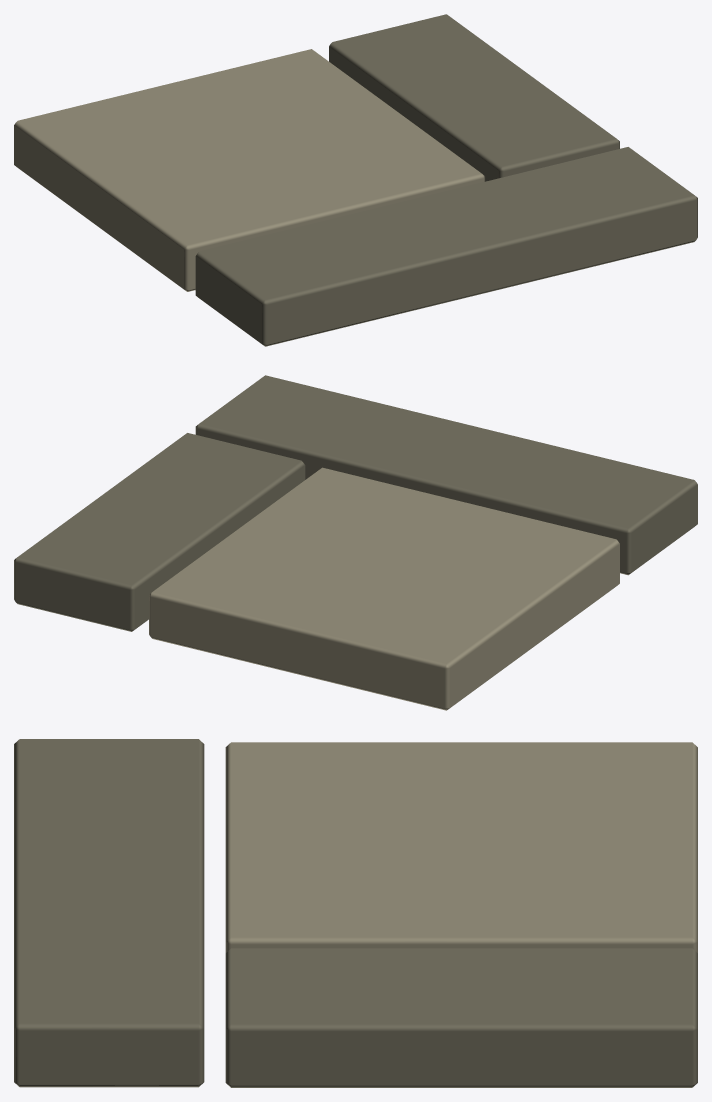
Rendered from stone-halls-flag-c.bbf9a24e.glb.
3 views of the same model, one above another, from view 1: azimuth 30°, elevation 25°; view 2: azimuth 150°, elevation 25°; view 3: azimuth 270°, elevation 25° (orthographic). The views are drawn at different scales.
Visible parts, largest first — view 1: body; view 2: body; view 3: body.
Part boxes in pixels (x1,y1,x2,y2): body: [14, 14, 697, 346]; body: [14, 375, 697, 710]; body: [14, 739, 697, 1087].
Size of the model in its own units: 0.97 by 0.105 by 0.97.
